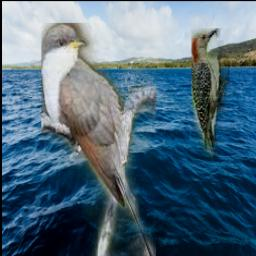Cuckoo: (41, 23, 156, 256)
Woodpecker: (191, 28, 230, 161)
